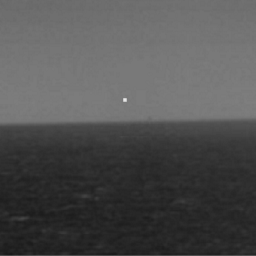Target: (121, 95, 128, 103)
